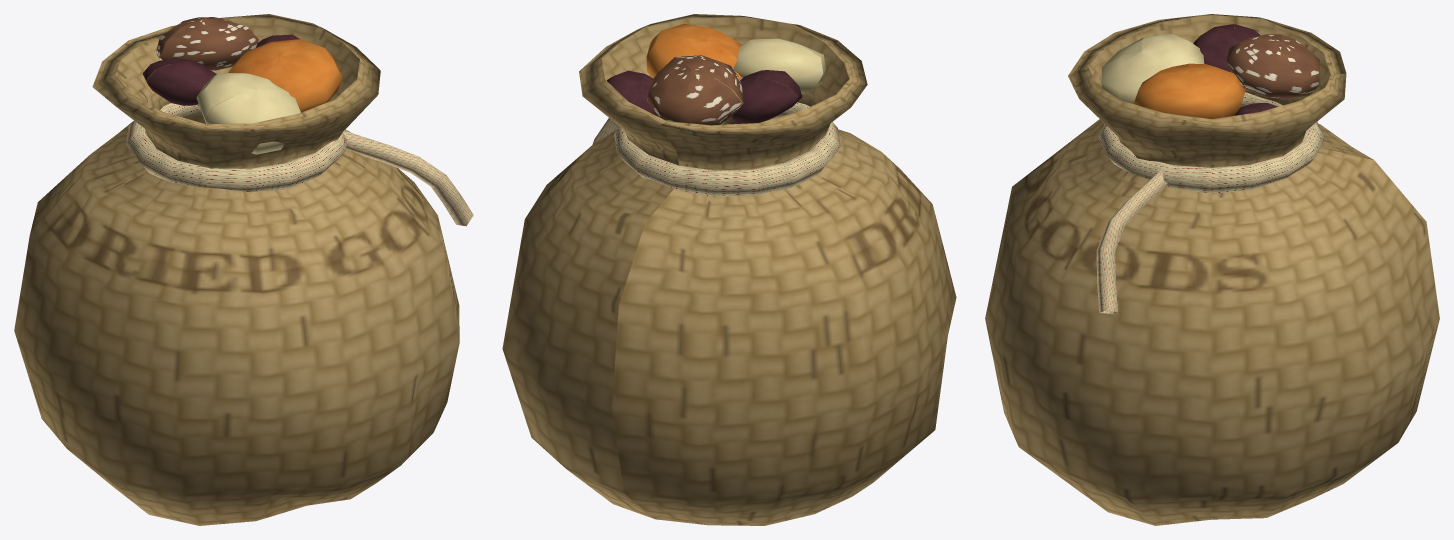
Rendered from driedfruit.obj.
3 renders of one model, left to right at view 1: azimuth 30°, elevation 25°; view 2: azimuth 150°, elevation 25°; view 3: azimuth 270°, elevation 25°, orthographic.
Parts seen in each view (by area): view 1: driedfruit_0_surface; view 2: driedfruit_0_surface; view 3: driedfruit_0_surface.
Boxes of the visible parts, x1,y1,x2,y2 form: driedfruit_0_surface: (14,14,473,525); driedfruit_0_surface: (502,14,956,525); driedfruit_0_surface: (985,14,1439,525).
Bounding box in the file's own units: 0.2193 × 0.2289 × 0.2208.
1 material, 1 textured.
